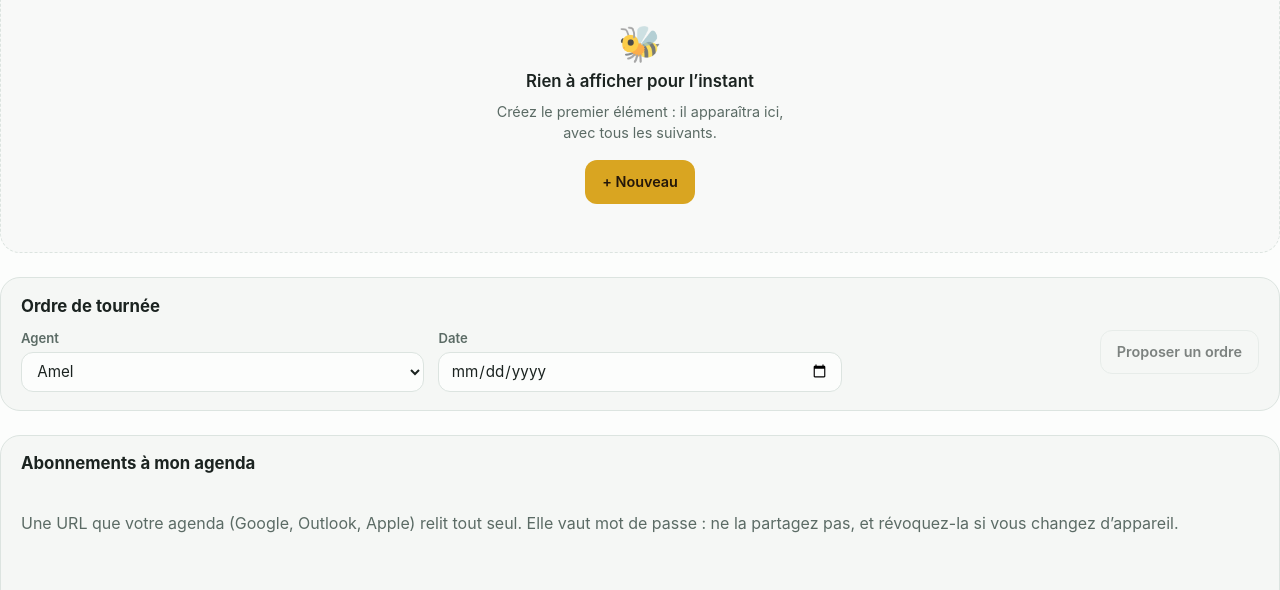
Test: tournée réordonnable › annonce la simulation dès qu'une étape bouge, et recalcule le total
Select "Amel" in the dropdown labelled "Agent" at (223, 372), box [21,352,424,392]
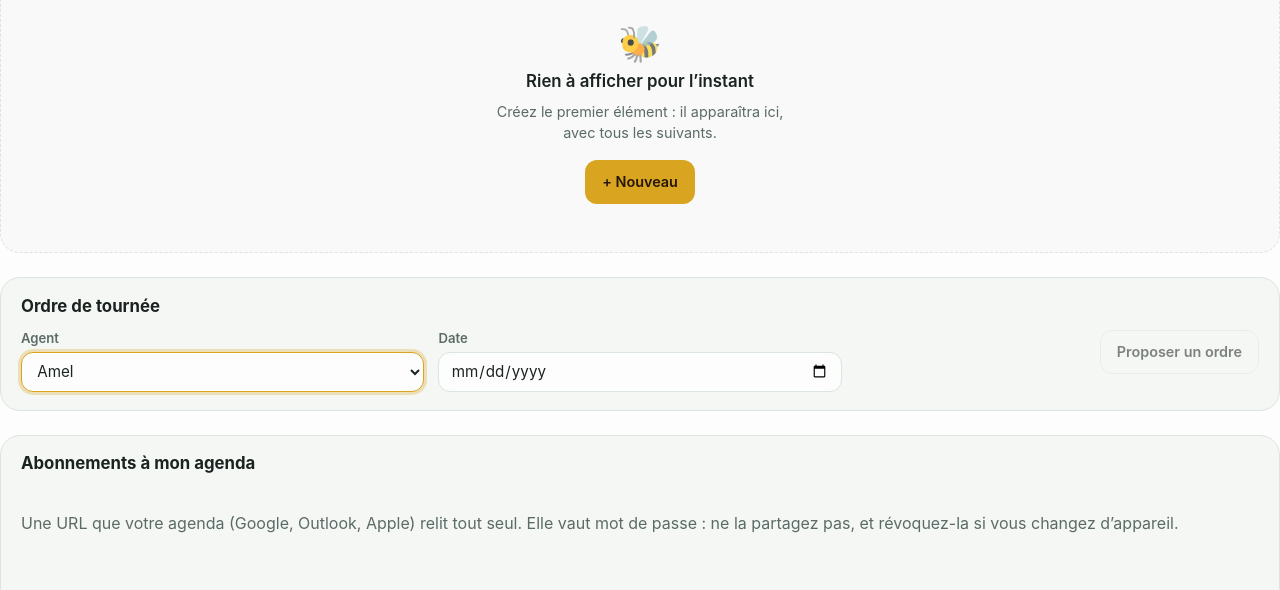
Type "2026-09-02" into the date field labelled "Date" at (640, 372), box [438,352,842,392]
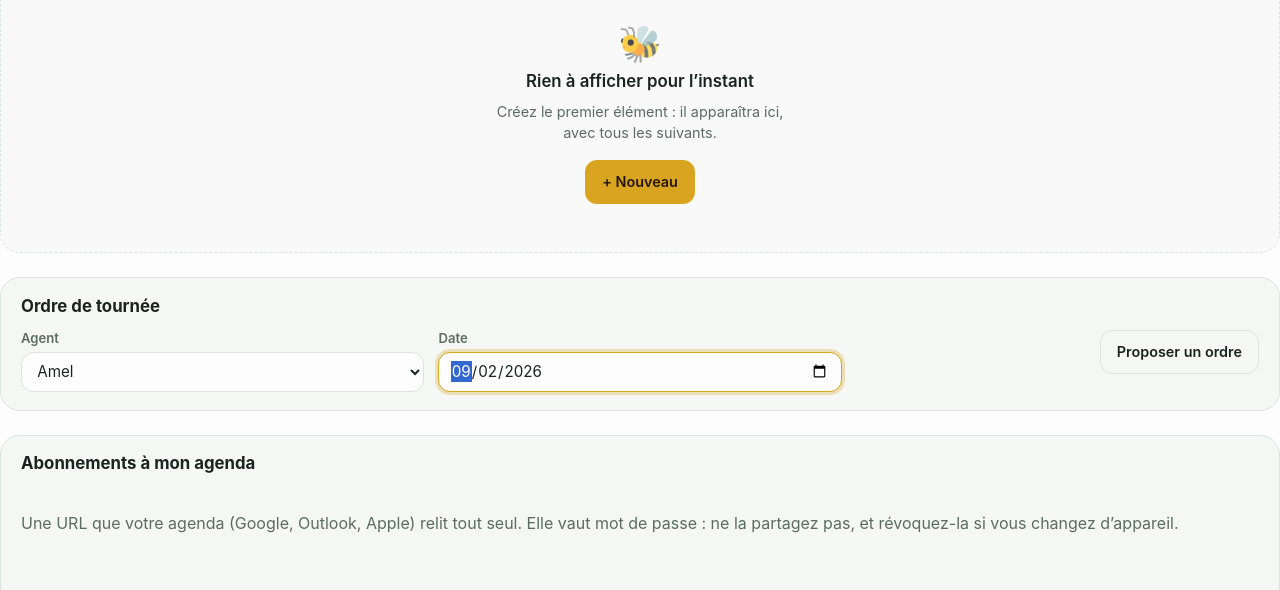
Click the button "Proposer un ordre" at (1179, 352), box [1100,330,1259,374]
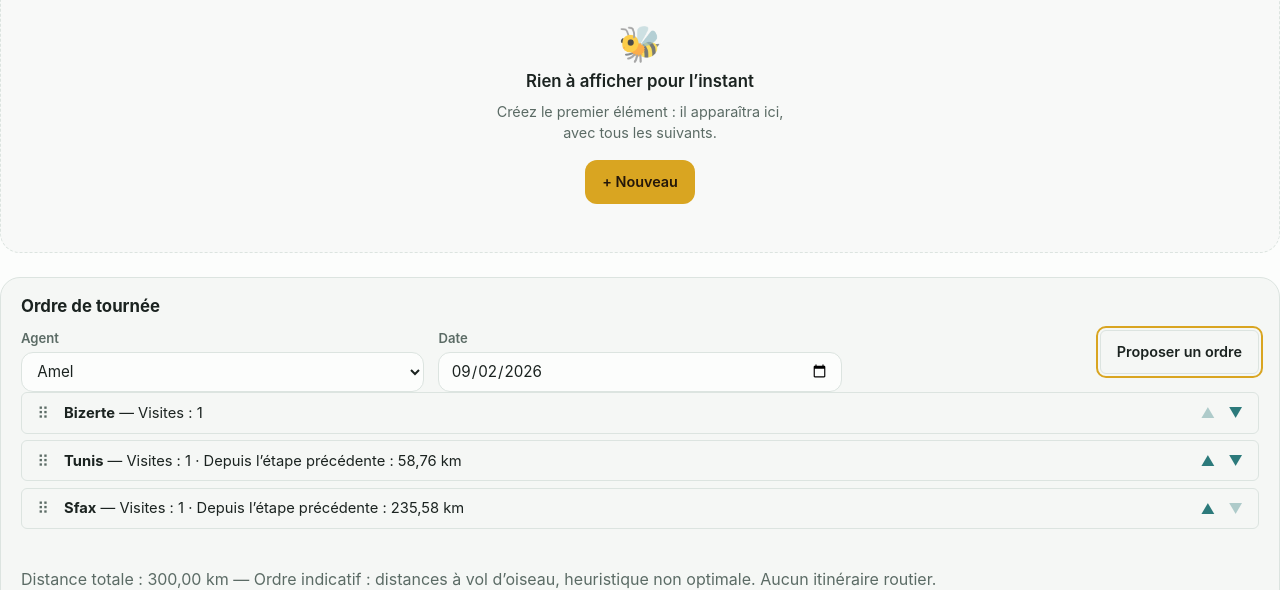
Now the list named "Ordre de tournée" is shown, box [21,392,1259,529]
Click the button named "Descendre d’un rang : Bizerte" at (1236, 413), box [1223,401,1248,425]
(page scrolled)
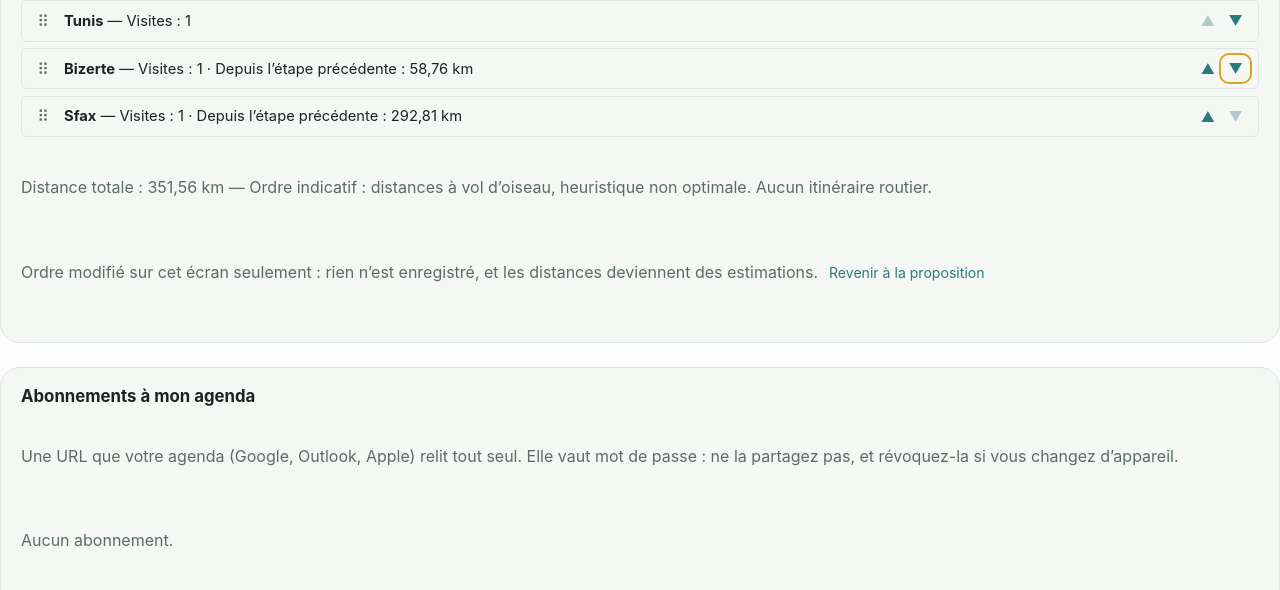
Now the text "Ordre modifié sur cet écran" is shown, box [21,262,818,282]
